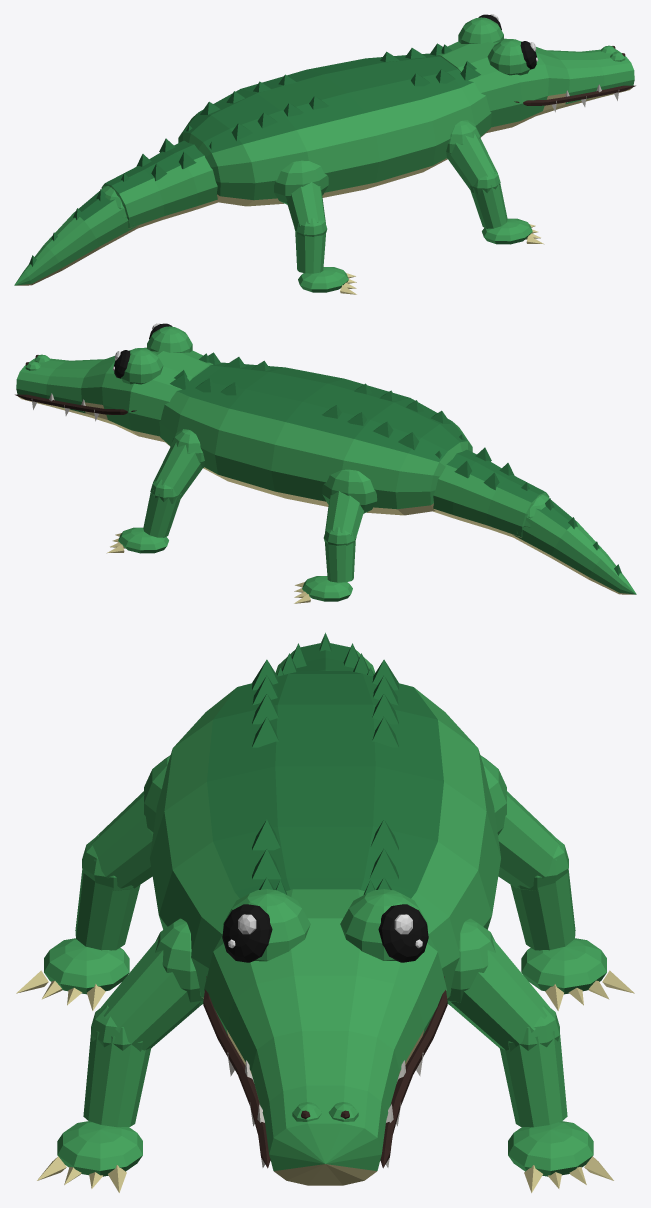
Rendered from crocodile.glb.
The picture shows the model from 3 angles, top to bottom: view 1: azimuth 30°, elevation 25°; view 2: azimuth 150°, elevation 25°; view 3: azimuth 270°, elevation 25°; orthographic projection. The views are drawn at different scales.
Parts seen in each view (by area): view 1: body, head, tail, leg_br, tail_2, leg_fr; view 2: body, head, tail, leg_bl, tail_2, leg_fl; view 3: body, head, leg_fl, leg_fr, leg_bl, leg_br, tail.
Part boxes in pixels (left/top/right/bottom): body: left=178, top=43, right=491, bottom=206; head: left=437, top=14, right=635, bottom=133; tail: left=101, top=125, right=217, bottom=228; leg_br: left=273, top=160, right=356, bottom=294; tail_2: left=14, top=173, right=139, bottom=285; leg_fr: left=446, top=120, right=544, bottom=244; body: left=159, top=352, right=472, bottom=515; head: left=15, top=323, right=213, bottom=442; tail: left=433, top=434, right=549, bottom=537; leg_bl: left=294, top=469, right=377, bottom=603; tail_2: left=512, top=482, right=636, bottom=594; leg_fl: left=106, top=429, right=204, bottom=553; body: left=150, top=659, right=500, bottom=998; head: left=203, top=880, right=447, bottom=1185; leg_fl: left=447, top=918, right=613, bottom=1192; leg_fr: left=37, top=918, right=203, bottom=1192; leg_bl: left=480, top=755, right=634, bottom=1010; leg_br: left=16, top=755, right=170, bottom=1010; tail: left=275, top=643, right=375, bottom=676.
Bounding box in the file's own units: 3.15 × 0.775 × 1.38.
